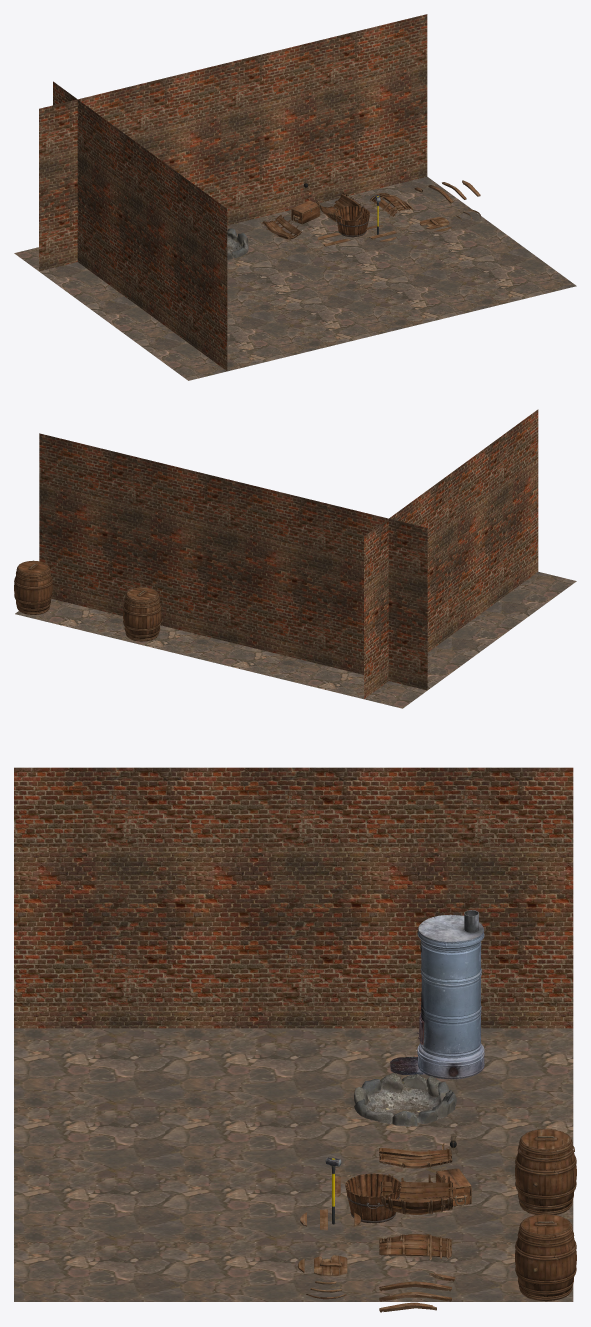
Rendered from zal.glb.
3 views of the same model, one above another, from view 1: azimuth 30°, elevation 25°; view 2: azimuth 150°, elevation 25°; view 3: azimuth 270°, elevation 25° (orthographic). The views are drawn at different scales.
Visible parts, largest first — view 1: Plane.001, Plane, wooden_barrels_01_piece01, wooden_bucket_02, stone_fire_pit, wooden_crate_01; view 2: Plane.001, Plane, wooden_barrels_01_barrel02, wooden_barrels_01_barrel01; view 3: Plane.001, Plane, scandinavian_masonry_heater, wooden_barrels_01_piece01, wooden_barrels_01_barrel01, wooden_barrels_01_barrel02, stone_fire_pit, wooden_bucket_02, wooden_crate_01.
Boxes of the visible parts, <box> form: Plane.001: <box>39,14,427,370</box>; Plane: <box>14,176,576,380</box>; wooden_barrels_01_piece01: <box>260,180,480,246</box>; wooden_bucket_02: <box>335,206,369,237</box>; stone_fire_pit: <box>227,228,248,259</box>; wooden_crate_01: <box>291,200,320,224</box>; Plane.001: <box>39,409,538,698</box>; Plane: <box>15,571,576,708</box>; wooden_barrels_01_barrel02: <box>123,587,161,641</box>; wooden_barrels_01_barrel01: <box>14,560,52,614</box>; Plane.001: <box>14,767,573,1028</box>; Plane: <box>14,1028,573,1301</box>; scandinavian_masonry_heater: <box>390,910,484,1079</box>; wooden_barrels_01_piece01: <box>297,1143,455,1312</box>; wooden_barrels_01_barrel01: <box>515,1214,576,1301</box>; wooden_barrels_01_barrel02: <box>515,1128,576,1214</box>; stone_fire_pit: <box>354,1073,456,1126</box>; wooden_bucket_02: <box>345,1173,401,1223</box>; wooden_crate_01: <box>436,1168,471,1206</box>.
Bounding box in the file's own units: 9.42 × 3.6 × 7.05.
Materials: 12 (12 with a texture image).
